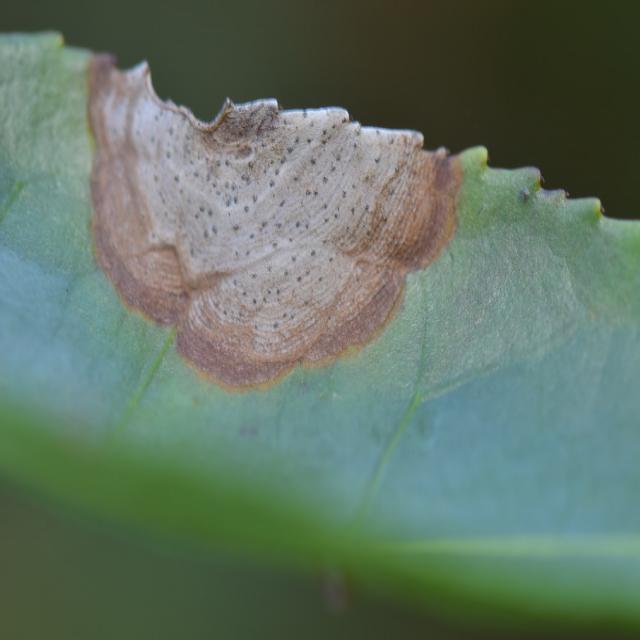Tea cloud leaf blight: (87, 37, 462, 393)
